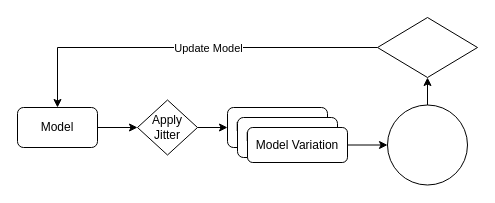
The diagram is 495 pixels wide and 203 high, and some of its shapes have lost their labels. The centre of each missing label's shape, as x and y in pixels:
Better Score?: (x=427, y=47)
Run Simulations: (x=427, y=144)
